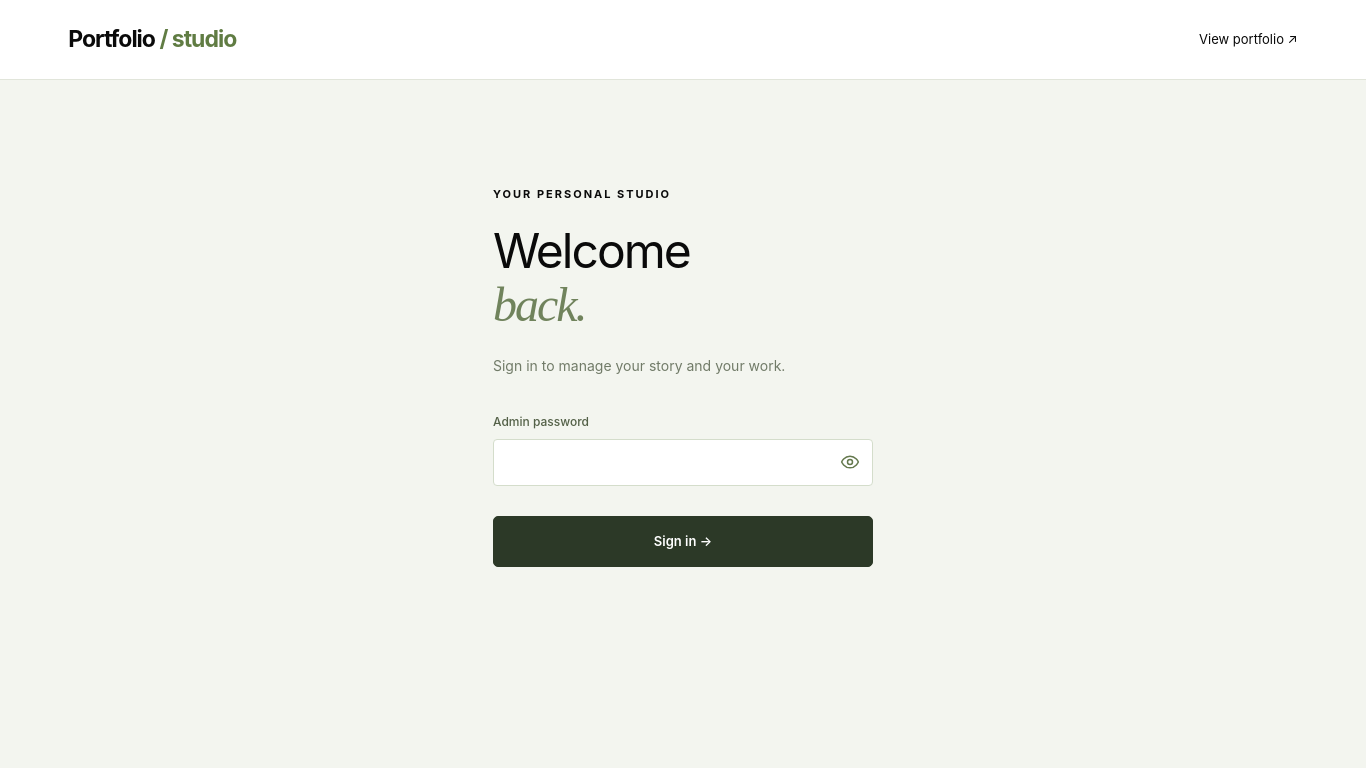
Scenario: toggles password visibility without submitting or changing the password
Type "example-password" into the password field labelled "Admin password" at coordinates (683, 462), box left=493, top=439, right=873, bottom=486
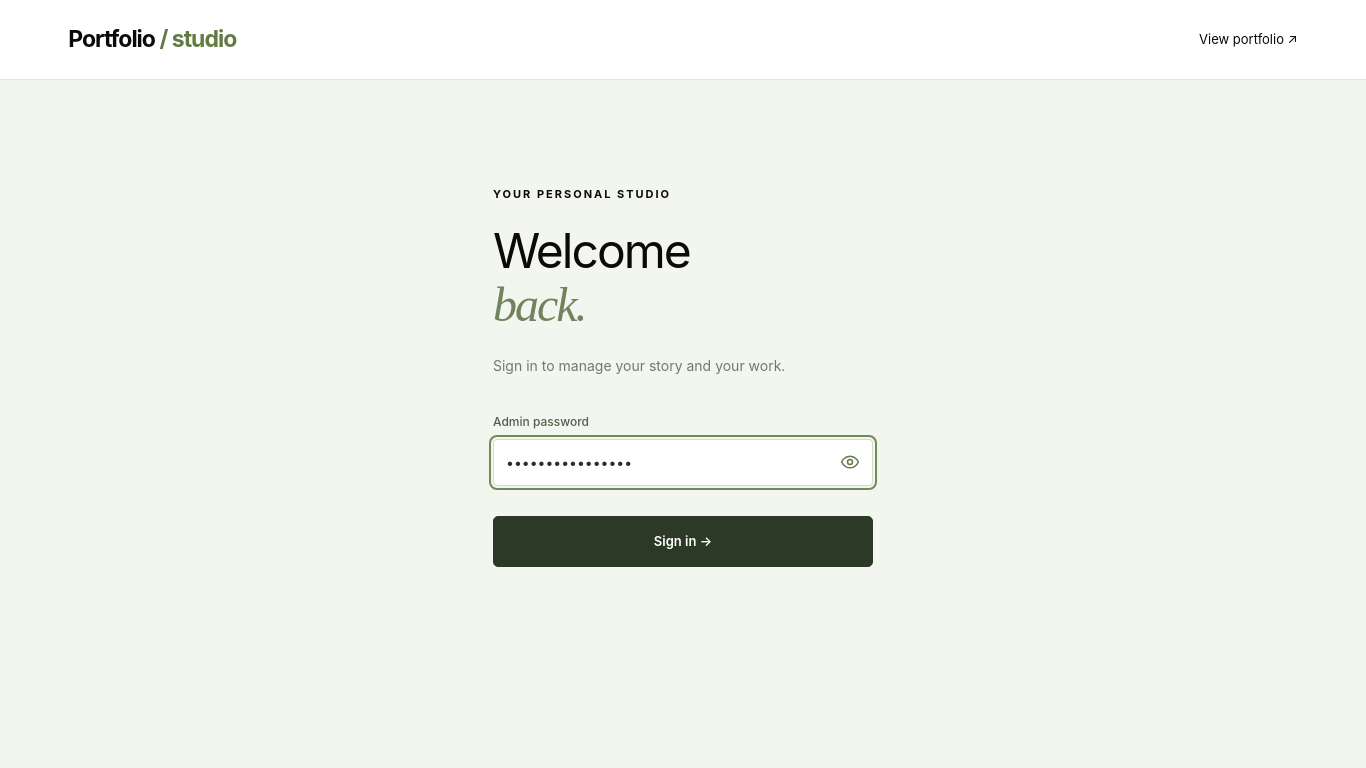
Click the button named "Show password" at coordinates (850, 462), box left=830, top=442, right=870, bottom=482
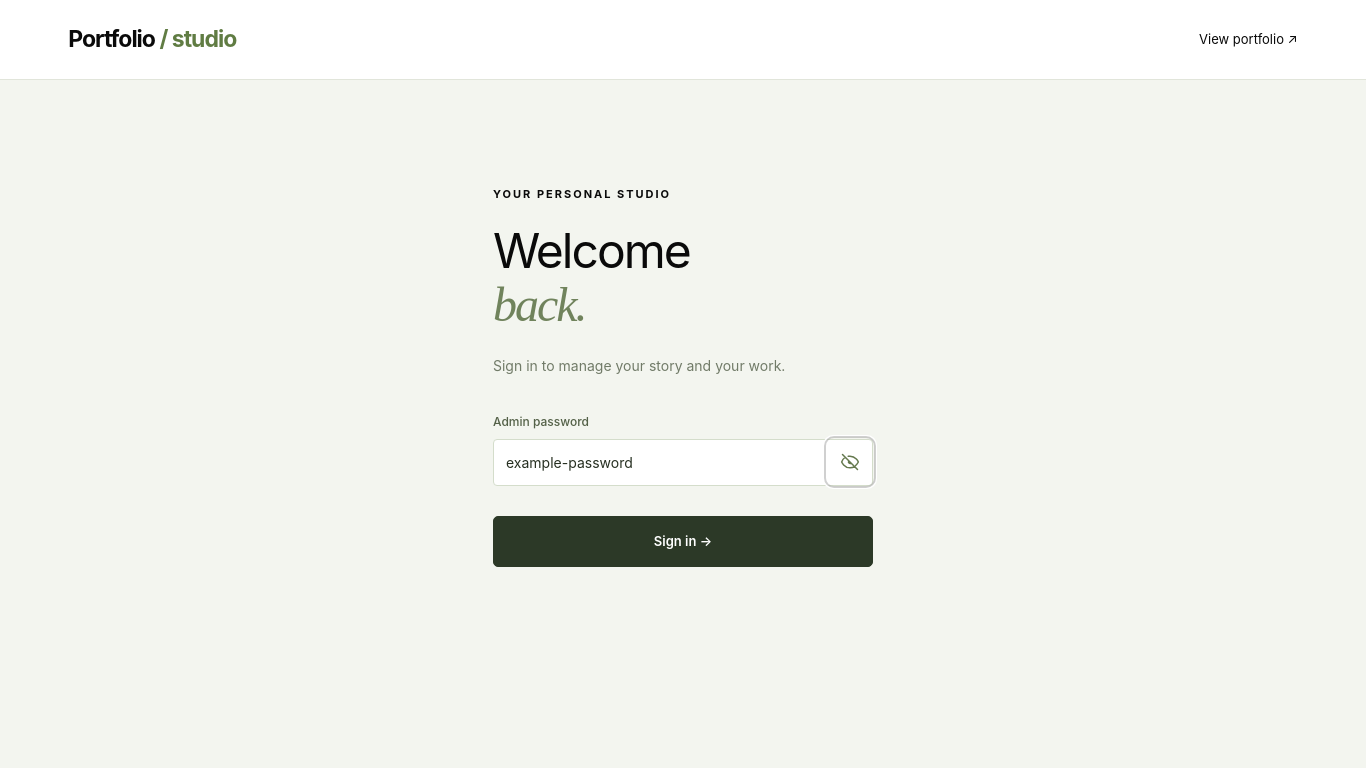
Now the field labelled "Admin password" shows its text, box left=493, top=439, right=873, bottom=486
Click the button named "Hide password" at coordinates (850, 462), box left=830, top=442, right=870, bottom=482
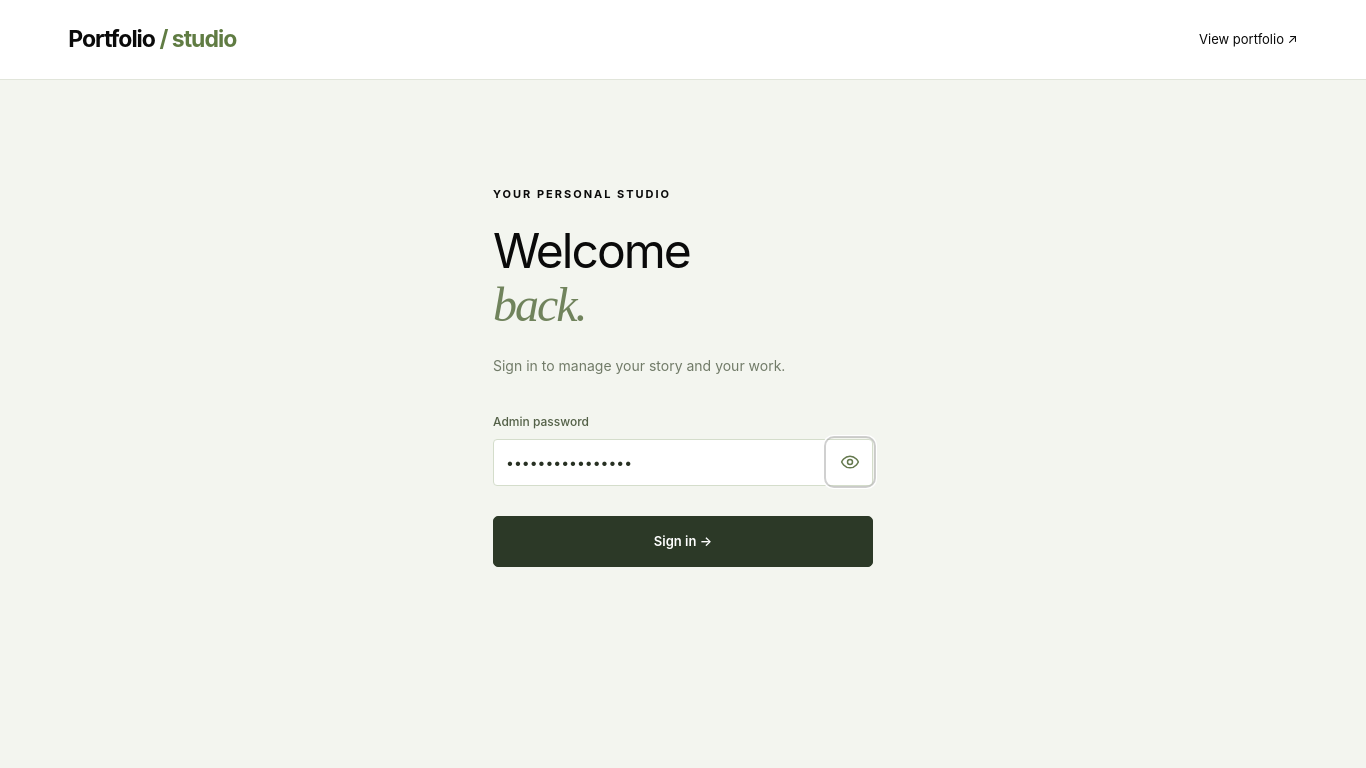
Now the password field labelled "Admin password" hides its text, box left=493, top=439, right=873, bottom=486
